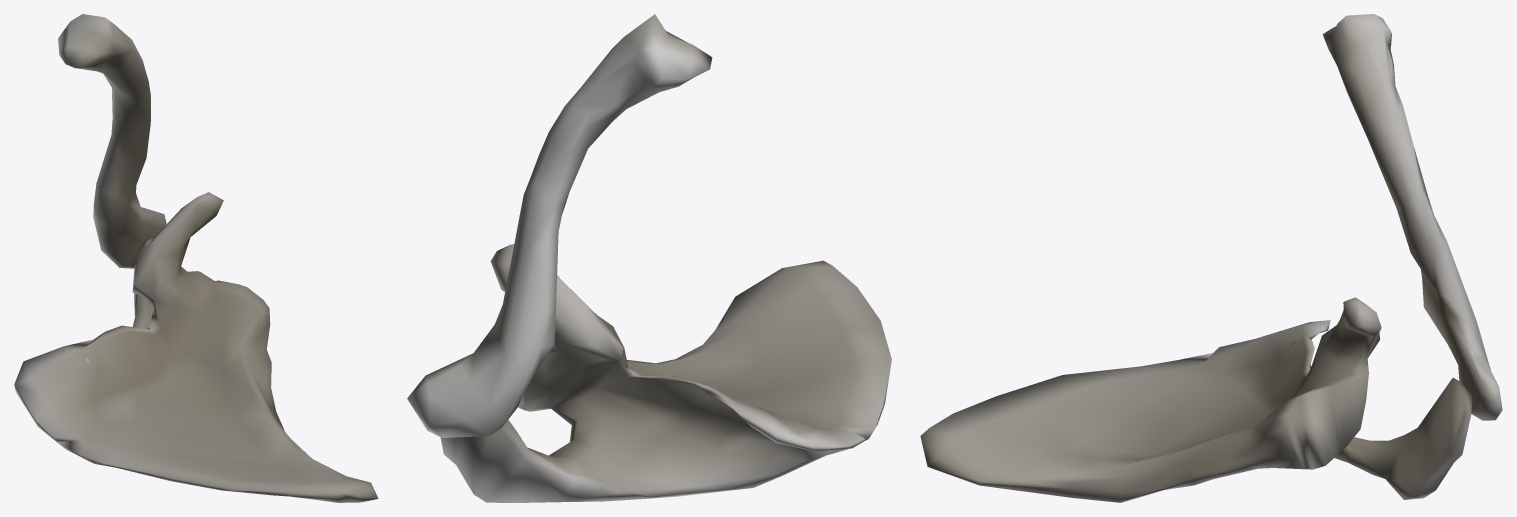
File: animals-animalparts-skeleton_v3.glb
3 renders of one model, left to right at view 1: azimuth 30°, elevation 25°; view 2: azimuth 150°, elevation 25°; view 3: azimuth 270°, elevation 25°, orthographic. The views are drawn at different scales.
Parts seen in each view (by area): view 1: Skeleton_v3; view 2: Skeleton_v3; view 3: Skeleton_v3.
Part boxes in pixels (x1=…): Skeleton_v3: x1=14, y1=14, x2=378, y2=502; Skeleton_v3: x1=407, y1=14, x2=891, y2=502; Skeleton_v3: x1=920, y1=14, x2=1502, y2=502.
Bounding box in the file's own units: 0.1266 × 0.1927 × 0.2307.
